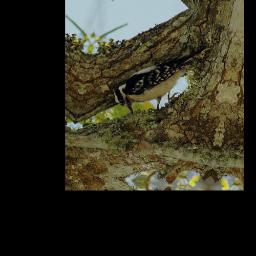Woodpecker: (106, 33, 210, 123)
